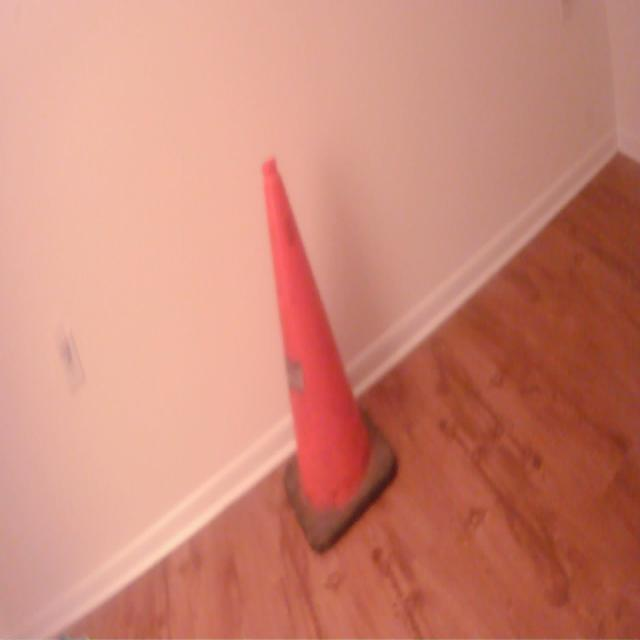traffic cone: (262, 153, 402, 563)
